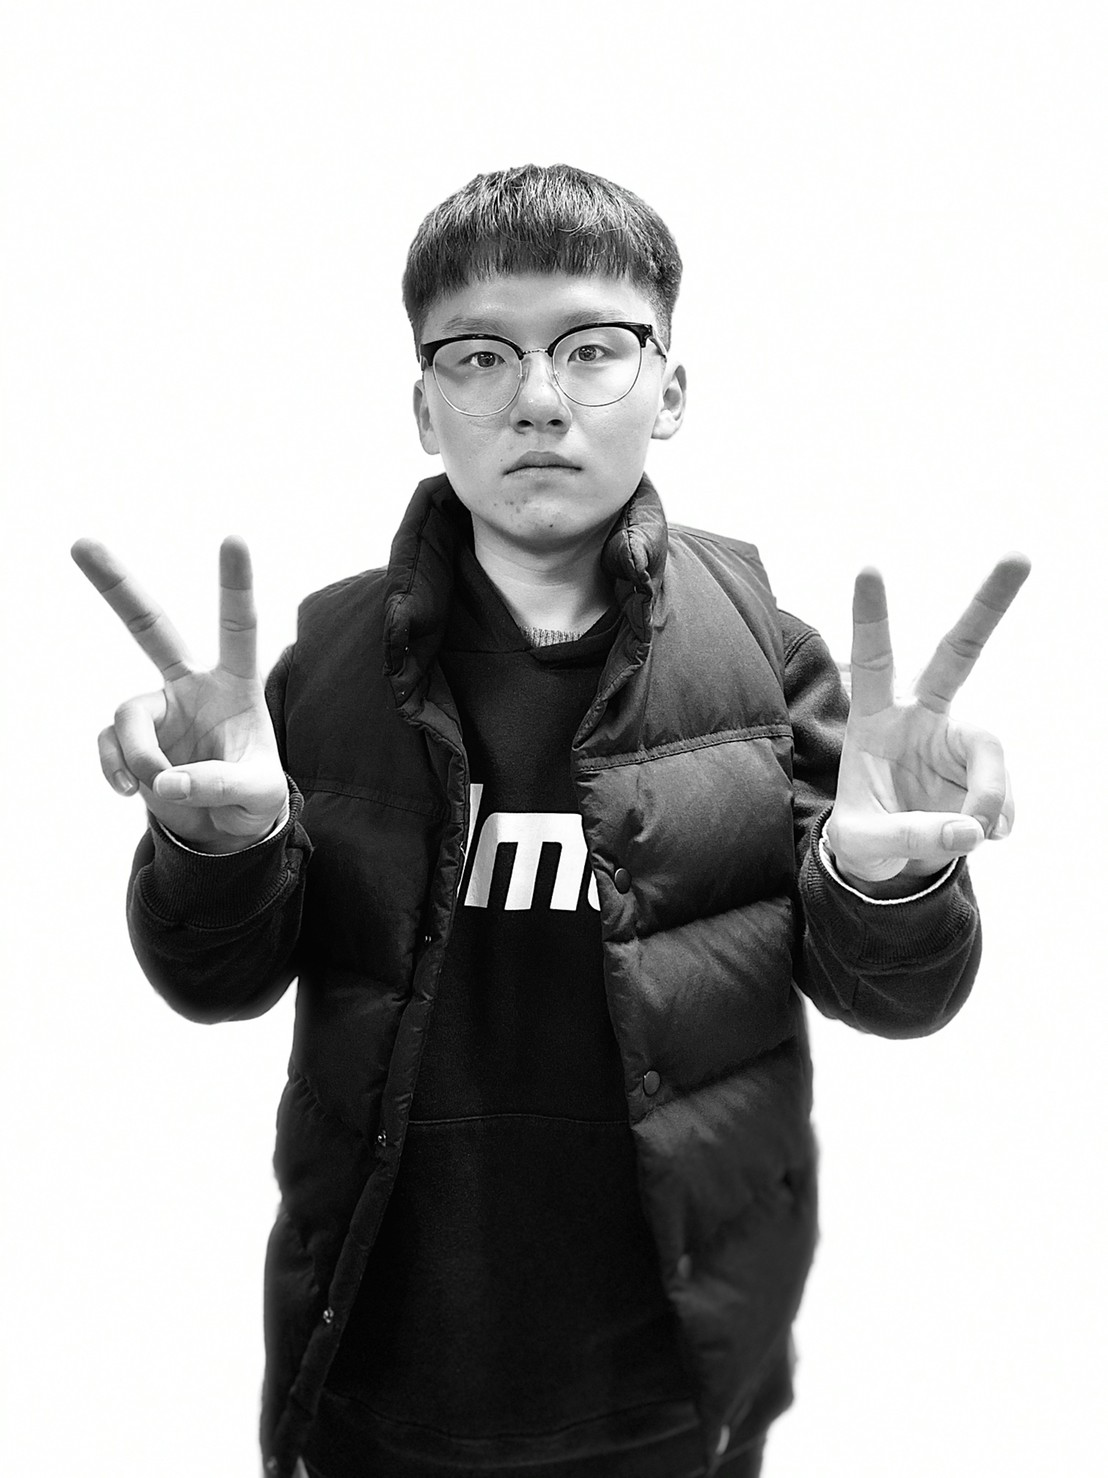people: (340, 154, 738, 1478)
